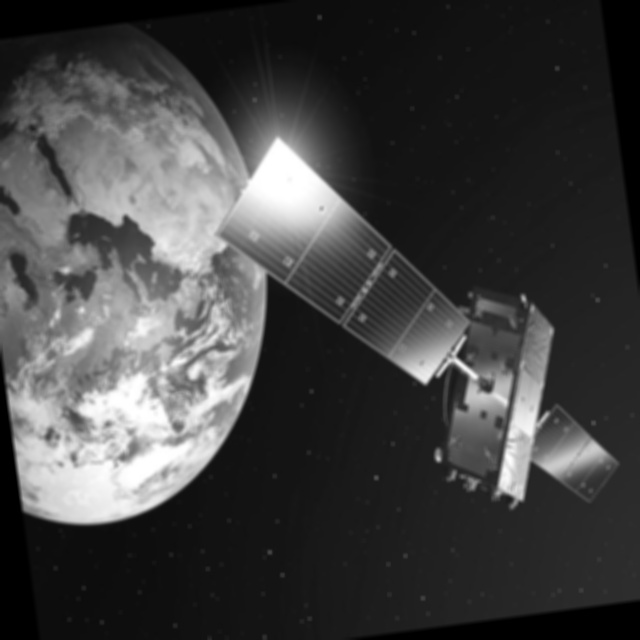medium_debris: (198, 53, 627, 568)
